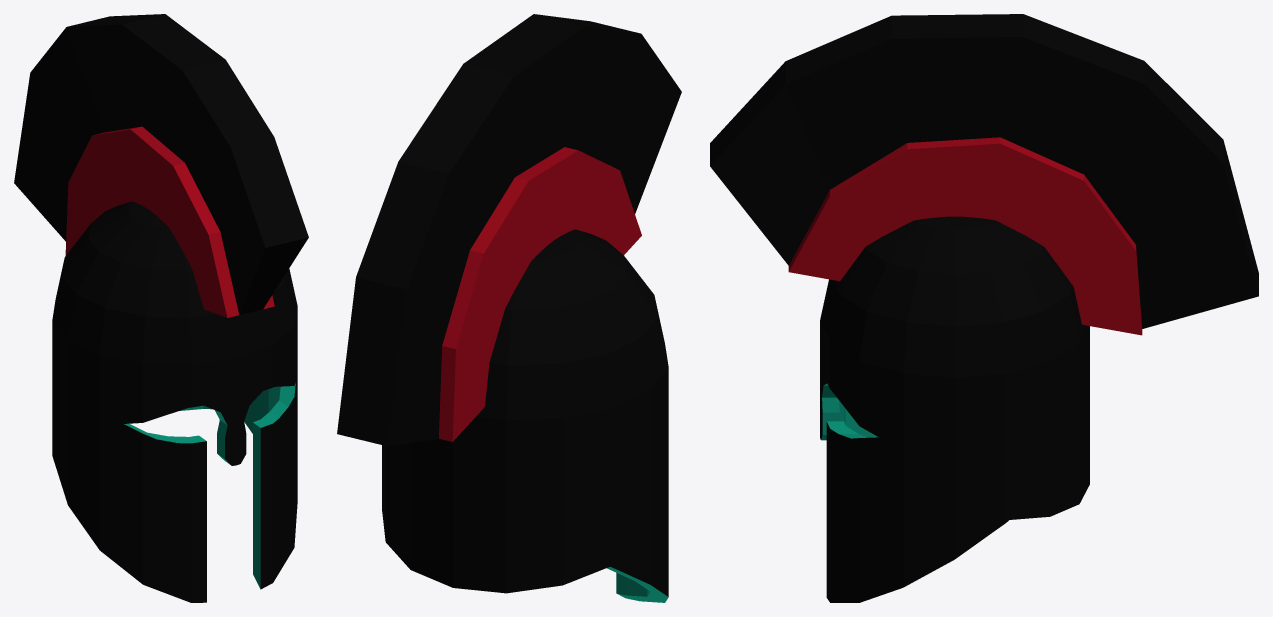
File: SpaHelmet2.fbx
The picture shows the model from 3 angles, left to right: view 1: azimuth 30°, elevation 25°; view 2: azimuth 150°, elevation 25°; view 3: azimuth 270°, elevation 25°; orthographic projection. The views are drawn at different scales.
Parts seen in each view (by area): view 1: Spartan Helmet.002; view 2: Spartan Helmet.002; view 3: Spartan Helmet.002.
Boxes of the visible parts, x1,y1,x2,y2 form: Spartan Helmet.002: (14,14,308,602); Spartan Helmet.002: (337,14,681,602); Spartan Helmet.002: (710,14,1258,602).
Size of the model in its own units: 21.62 by 49.3 by 43.97.
